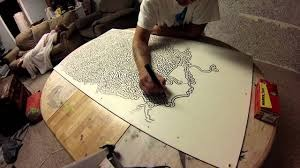maze: (101, 64, 136, 97), (154, 51, 175, 70)
